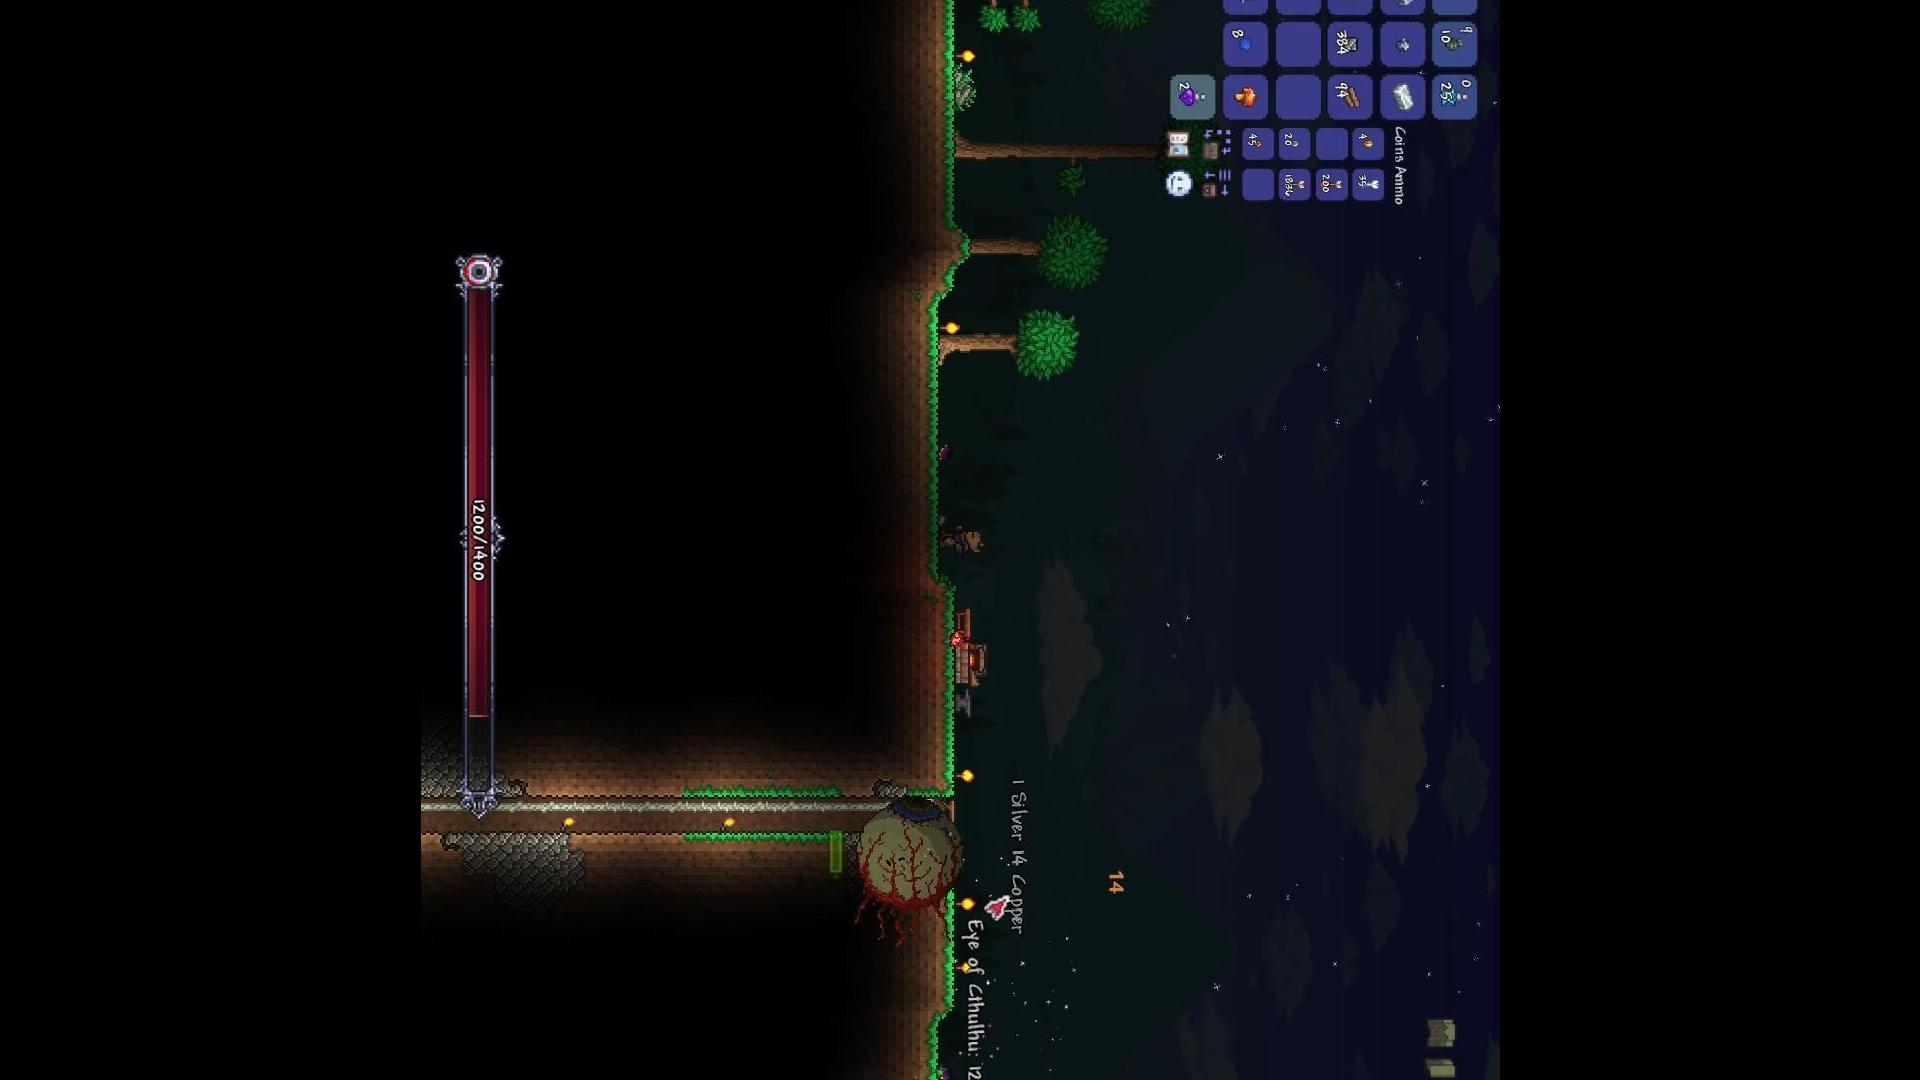anvil: (951, 686, 975, 725)
arrow: (1357, 178, 1383, 191), (1320, 179, 1345, 191), (1282, 178, 1305, 190)
cobwebI: (1230, 0, 1259, 7)
eyeC: (828, 794, 971, 931)
furnace: (948, 638, 989, 692)
gel: (1237, 37, 1255, 54)
glowstick: (1338, 0, 1358, 7)
grenade: (1440, 37, 1466, 51)
platform: (944, 799, 964, 820)
recallP: (1439, 87, 1468, 111)
